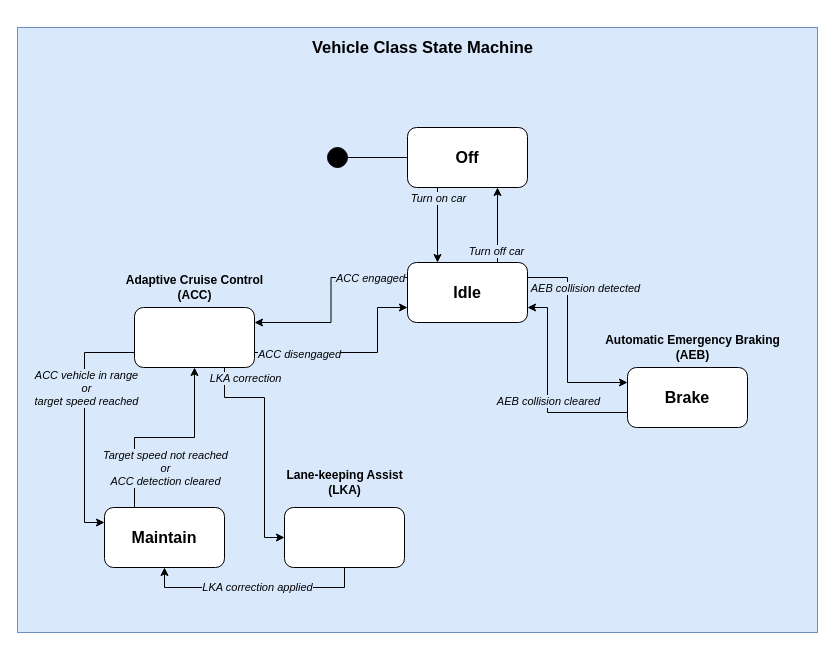
Some shapes in this 835 by 650 pixel diagram are drawn without their labels. Here are the shapes that lost their labels. From the top down, the centre of each, then its label:
At [194,337]: "Accelerate".
At [344,537]: "Turn".
